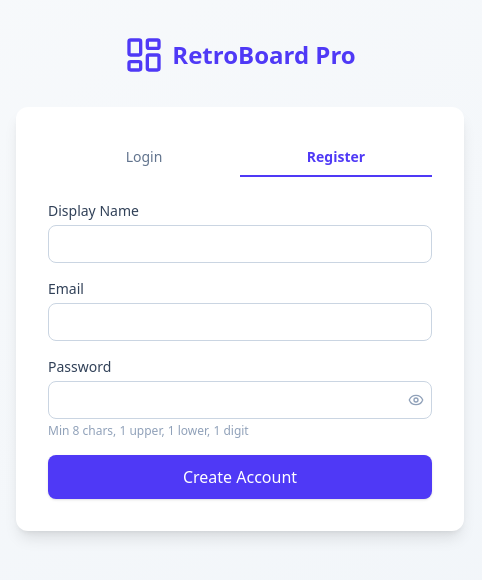
Test: RegisterPage › should validate password complexity
This screenshot has width=482, height=580.
Type "Test User" into the field labelled "Display Name".
click(240, 244); type("Test User")  # box [48,225,432,263]
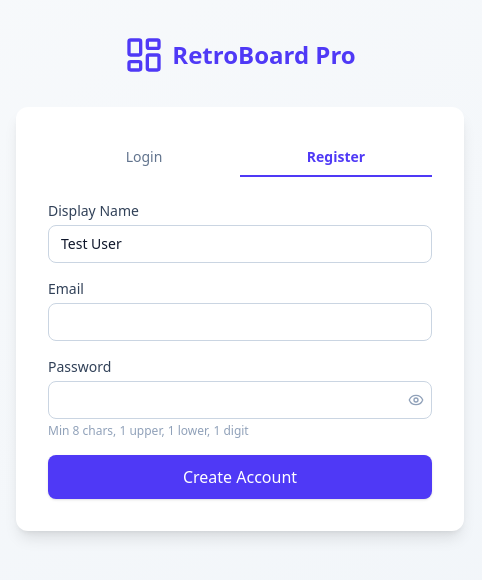
Type "test@test.com" into the field labelled "Email".
click(240, 322); type("test@test.com")  # box [48,303,432,341]
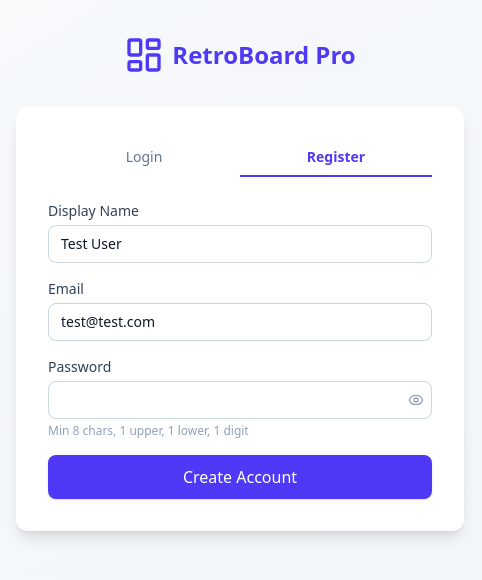
Type "alllowercase" into the password field with id "register-password".
click(240, 400); type("alllowercase")  # box [48,381,432,419]
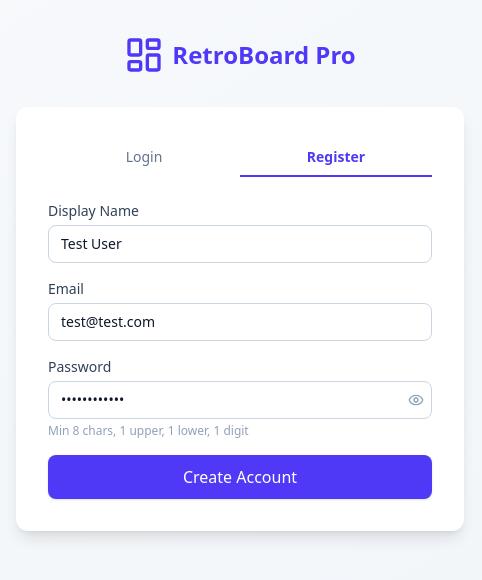
Submit the form, box [48,201,432,499]
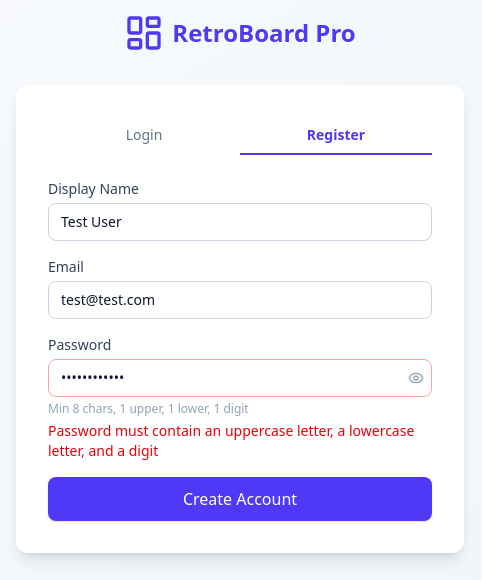
Check: the text "must contain an uppercase letter" is shown, box [48,421,414,460]
